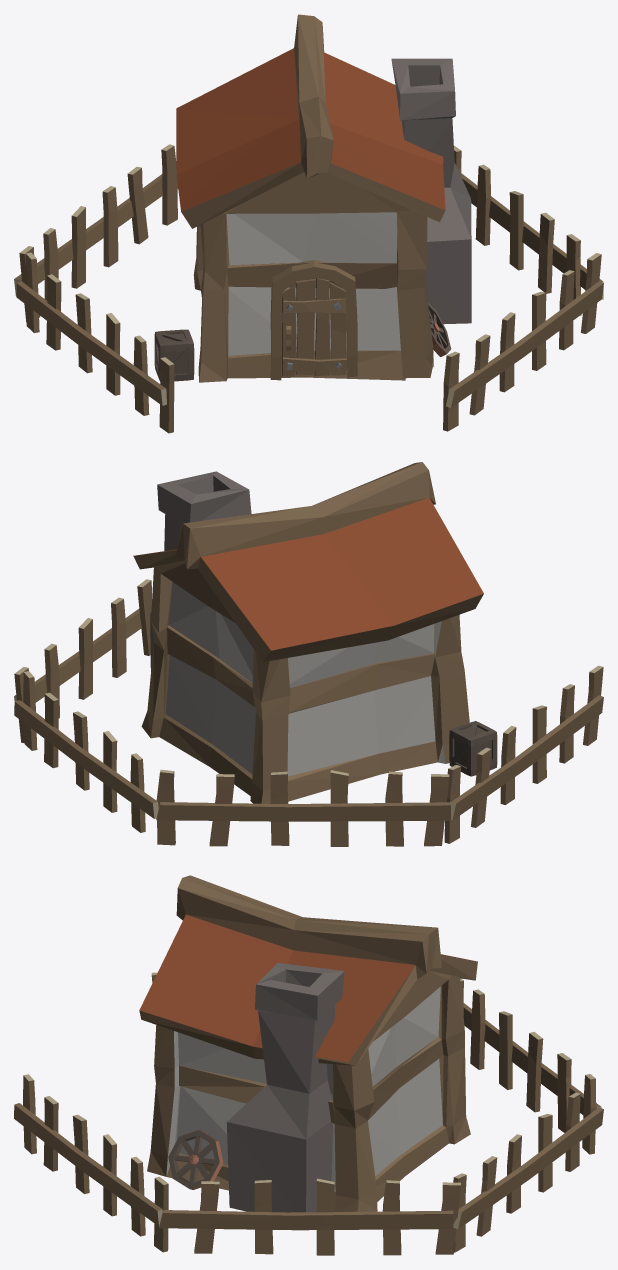
Rendered from house.fbx.
3 renders of one model, top to bottom at view 1: azimuth 30°, elevation 25°; view 2: azimuth 150°, elevation 25°; view 3: azimuth 270°, elevation 25°, orthographic.
Parts seen in each view (by area): view 1: house; view 2: house; view 3: house.
Boxes of the visible parts, x1=… form: house: x1=14, y1=14, x2=603, y2=433; house: x1=14, y1=462, x2=603, y2=846; house: x1=14, y1=875, x2=603, y2=1255.
Bounding box in the file's own units: 2.67 × 1.46 × 3.07.
